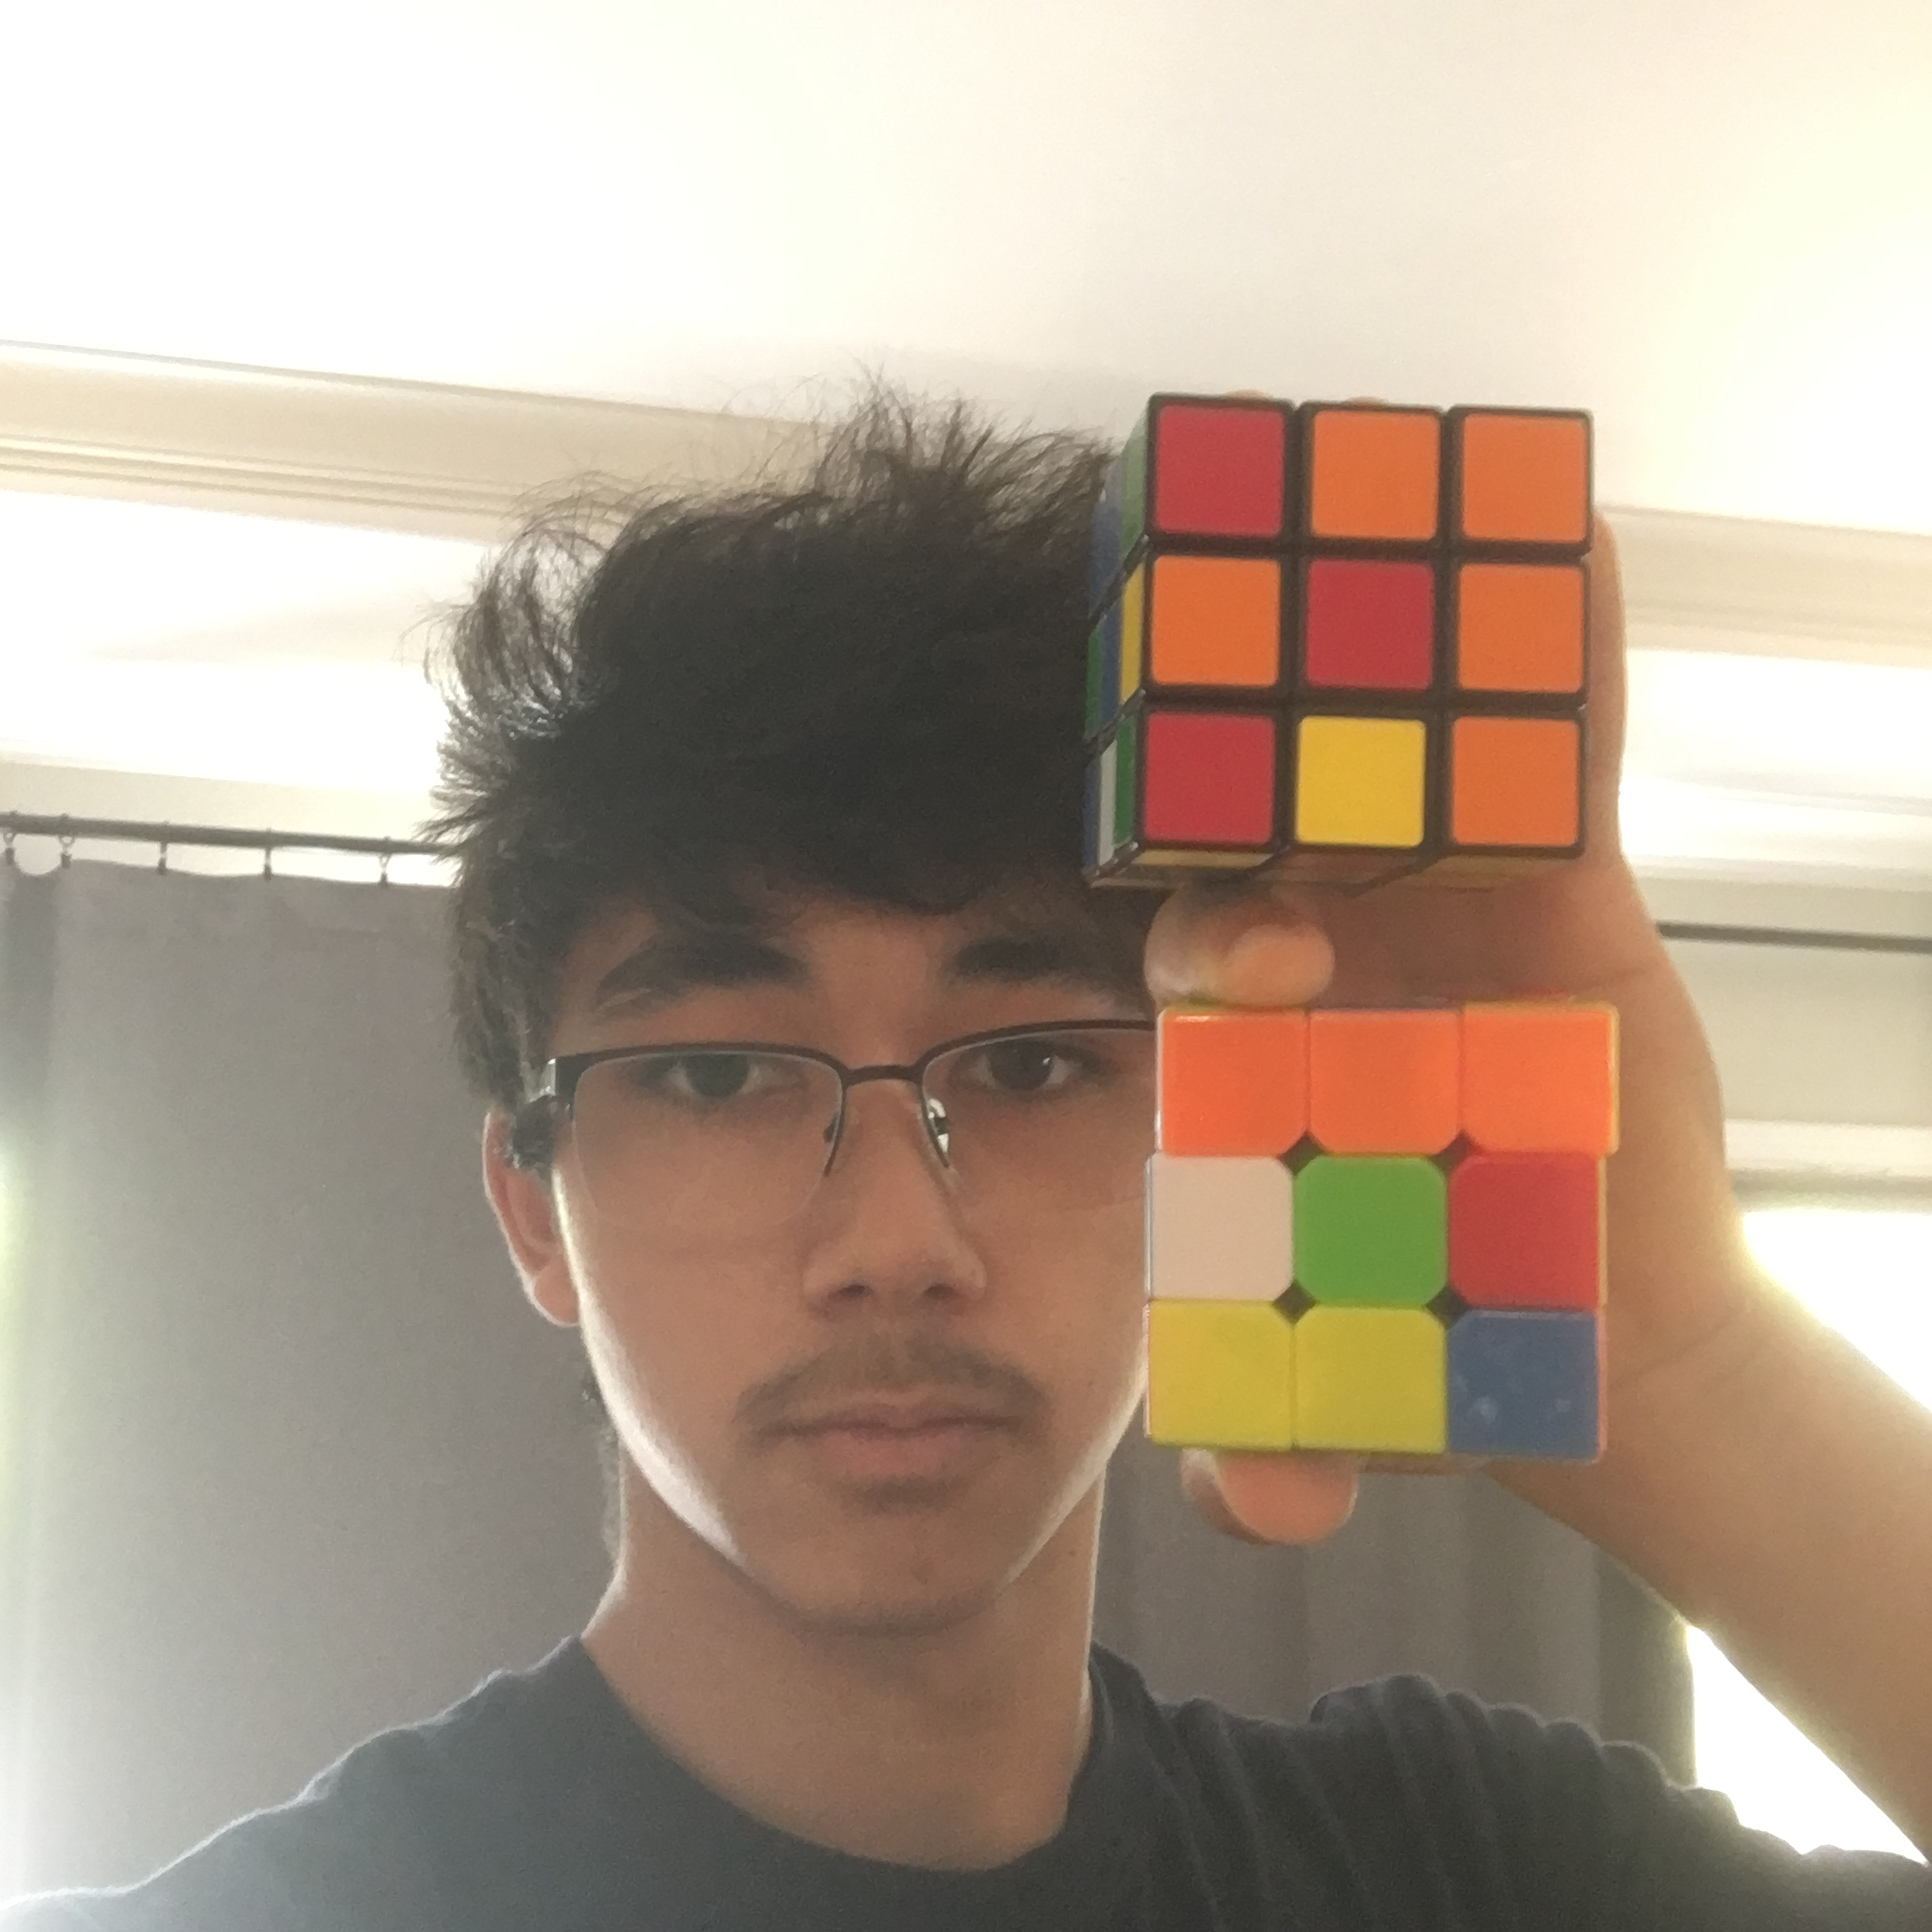face: (1138, 392, 1595, 863), (1142, 1007, 1613, 1463)
